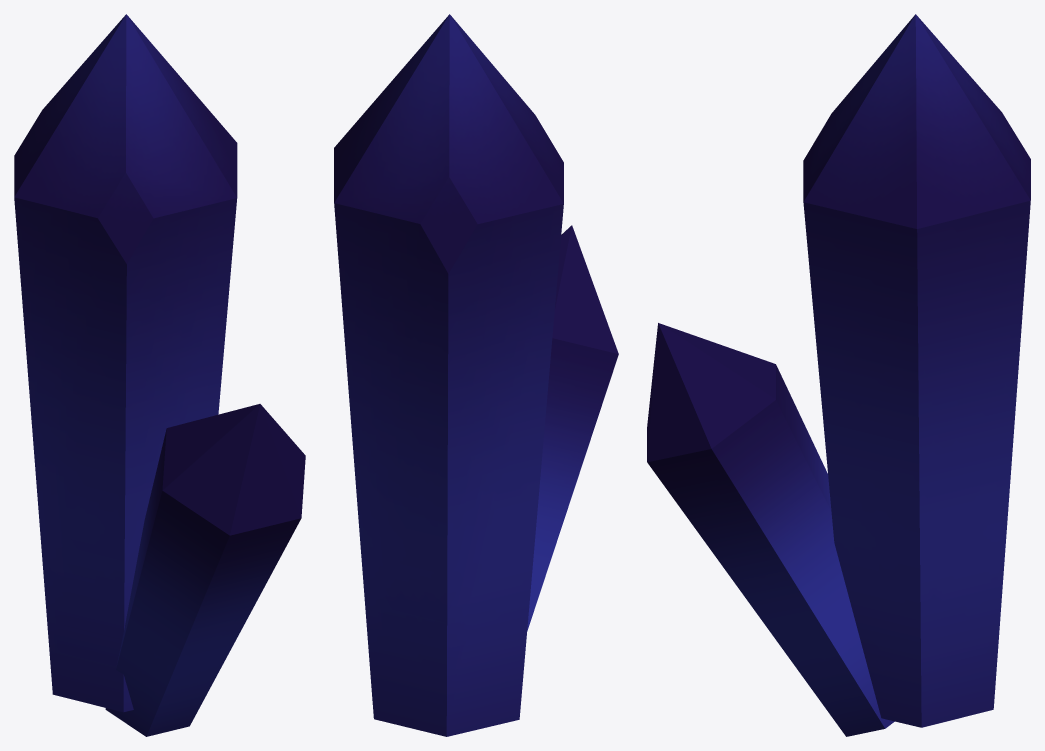
File: crystal_02.fbx
The picture shows the model from 3 angles, left to right: view 1: azimuth 30°, elevation 25°; view 2: azimuth 150°, elevation 25°; view 3: azimuth 270°, elevation 25°; orthographic projection. The views are drawn at different scales.
Parts seen in each view (by area): view 1: pCylinder13, pCylinder14; view 2: pCylinder13, pCylinder14; view 3: pCylinder13, pCylinder14.
Part boxes in pixels (box(x1,y1,x2,y2)): pCylinder13: box(14, 14, 237, 712); pCylinder14: box(105, 404, 305, 736); pCylinder13: box(334, 14, 563, 736); pCylinder14: box(527, 225, 618, 630); pCylinder13: box(803, 14, 1030, 727); pCylinder14: box(647, 323, 894, 736).
Size of the model in its own units: 0.5787 by 1.72 by 0.8456.
